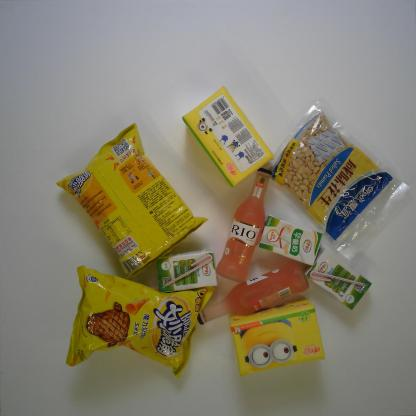Alcohol: (196, 259, 311, 326), (214, 166, 274, 283)
Dried Fruit: (268, 99, 412, 263)
Milk: (304, 246, 373, 312), (257, 213, 323, 266), (156, 249, 219, 294)
Puffed Food: (56, 122, 208, 282), (64, 264, 217, 379)
Tissue: (182, 86, 276, 190), (228, 299, 326, 377)
